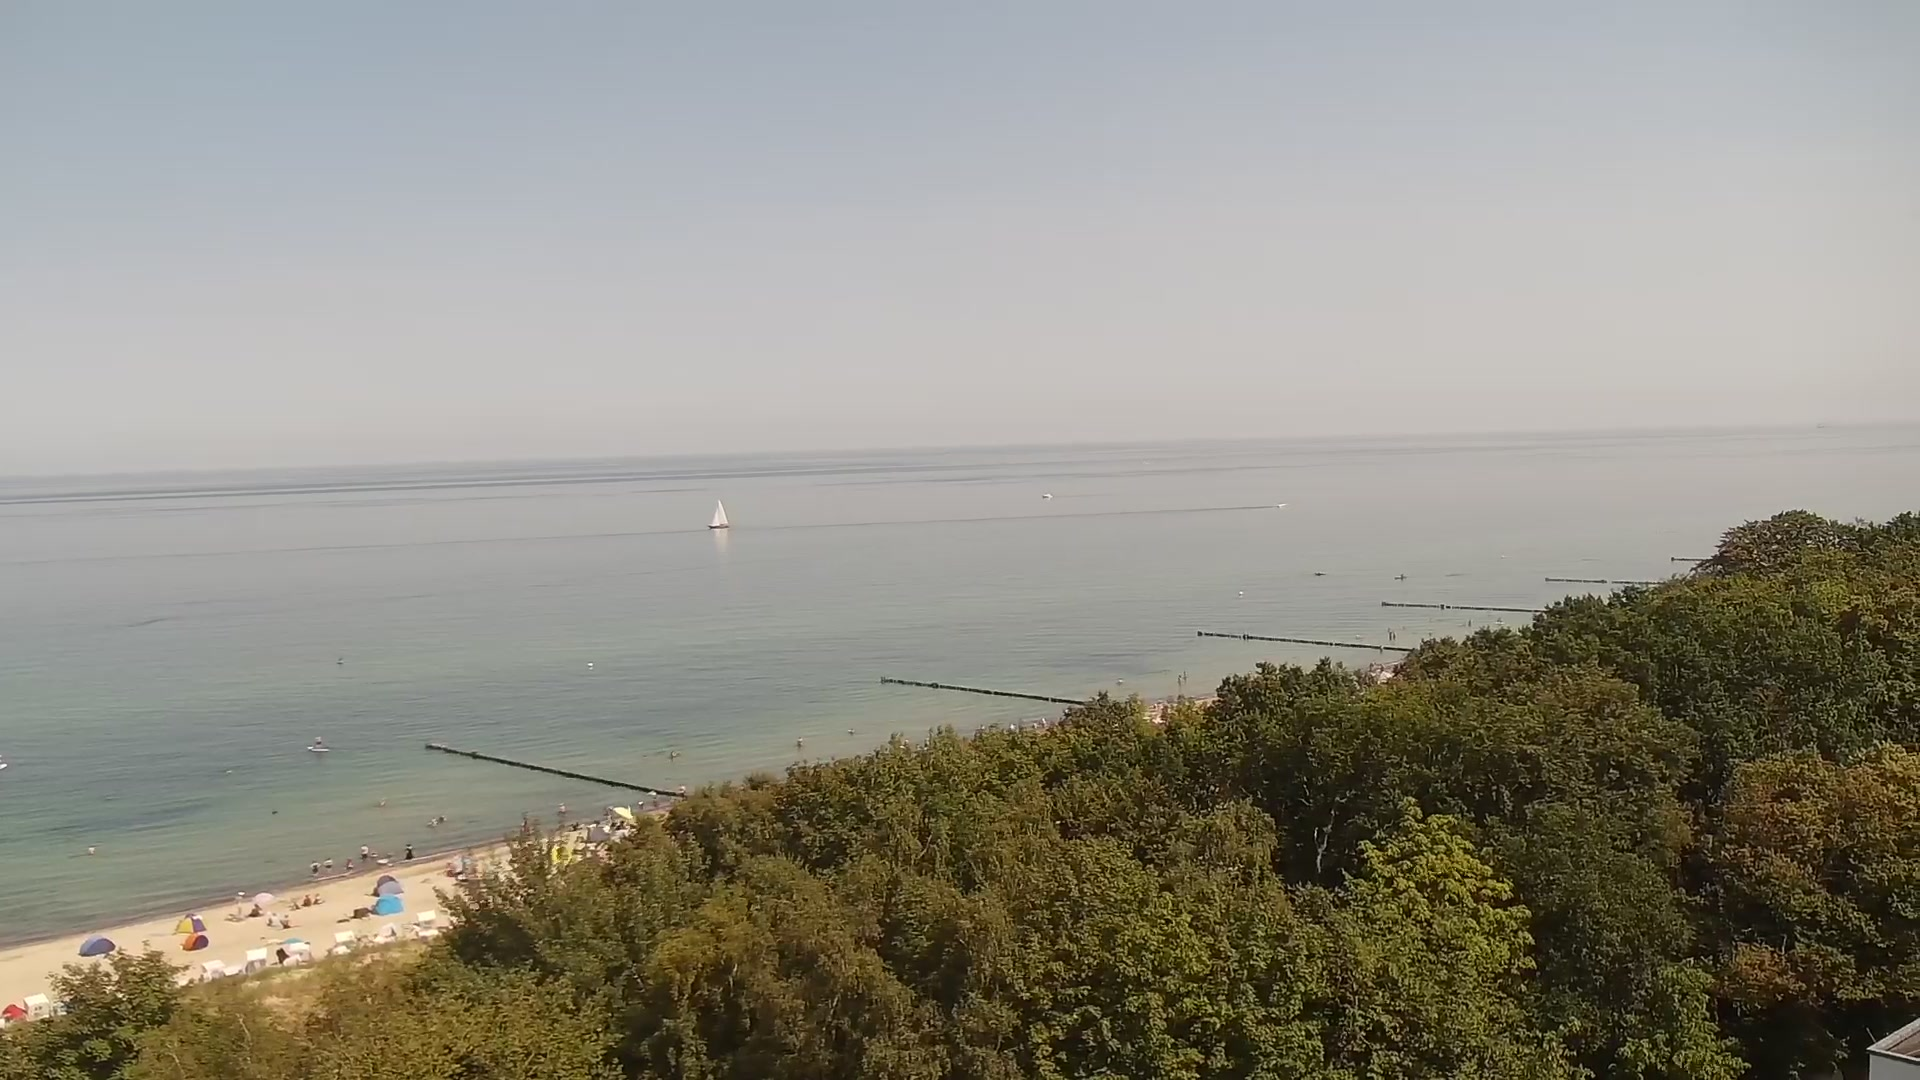human: (234, 889, 246, 916), (309, 858, 322, 877), (248, 902, 264, 917), (266, 910, 280, 927), (322, 857, 334, 875), (403, 841, 415, 860), (359, 842, 369, 862), (279, 913, 292, 930), (343, 857, 355, 874), (313, 733, 323, 750), (300, 893, 313, 907), (678, 782, 687, 801), (312, 891, 323, 904), (557, 801, 567, 814), (795, 735, 804, 749), (87, 844, 96, 856), (669, 749, 677, 758), (1176, 675, 1184, 684), (1181, 671, 1189, 680), (1039, 717, 1047, 726), (1030, 722, 1038, 731)
sea: (707, 499, 730, 530), (1394, 572, 1408, 580), (1315, 570, 1326, 577), (1040, 492, 1052, 499), (1276, 502, 1289, 508)
